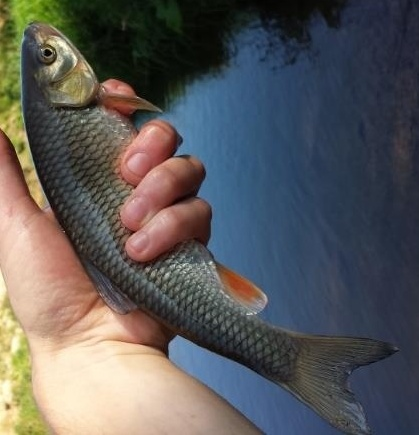Leuciscus cephalus: (20, 20, 399, 435)
